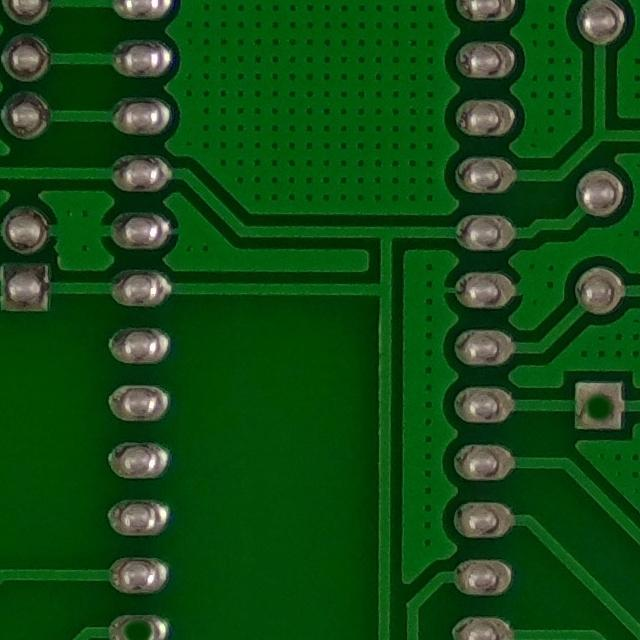missing_hole: (568, 374, 630, 440), (111, 611, 171, 640)
